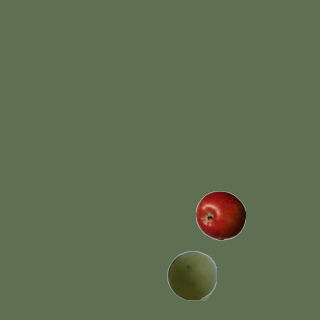Apple Braeburn: (195, 190, 245, 240)
Grape White 4: (166, 250, 216, 300)
